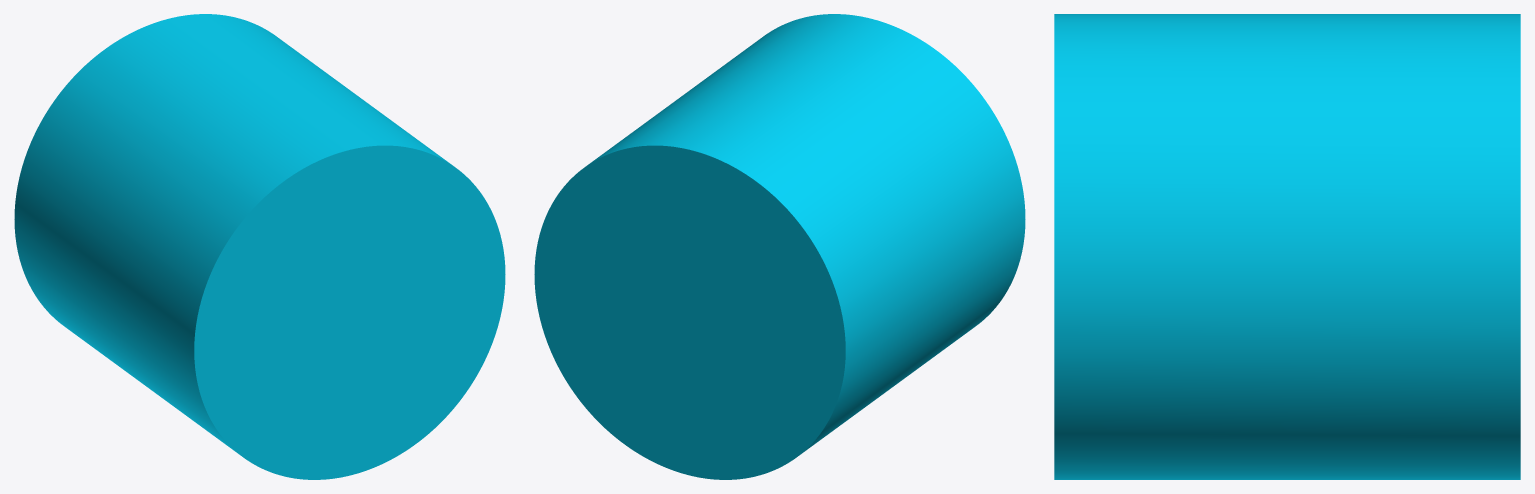
Rendered from cilinder.glb.
3 renders of one model, left to right at view 1: azimuth 30°, elevation 25°; view 2: azimuth 150°, elevation 25°; view 3: azimuth 270°, elevation 25°, orthographic. The views are drawn at different scales.
Parts seen in each view (by area): view 1: Object_2; view 2: Object_2; view 3: Object_2.
Boxes of the visible parts, left/top/right/bottom form: Object_2: left=14, top=14, right=505, bottom=479; Object_2: left=534, top=14, right=1025, bottom=479; Object_2: left=1054, top=14, right=1520, bottom=479.
Size of the model in its own units: 40 by 40 by 40.
